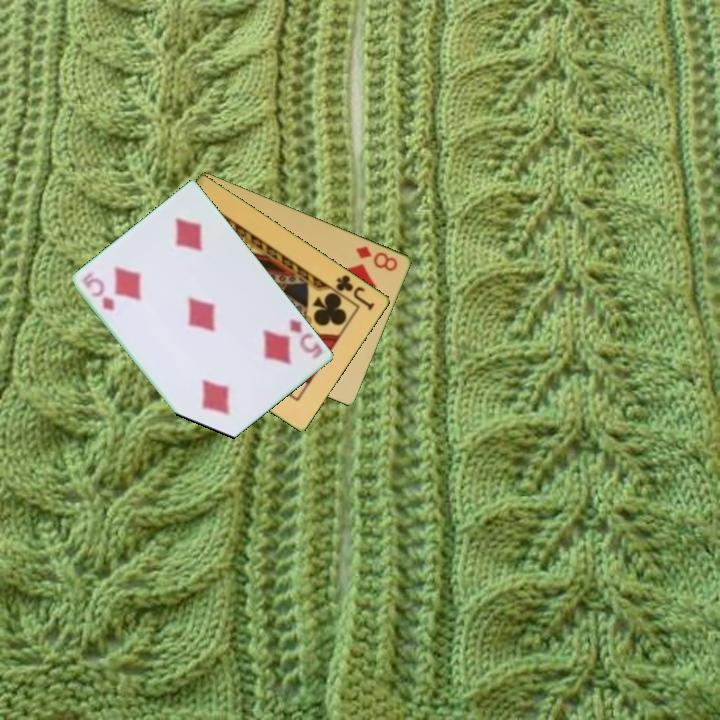5d: (286, 315, 326, 363), (87, 277, 118, 314)
8d: (352, 242, 401, 274)
Jc: (333, 271, 378, 313)
